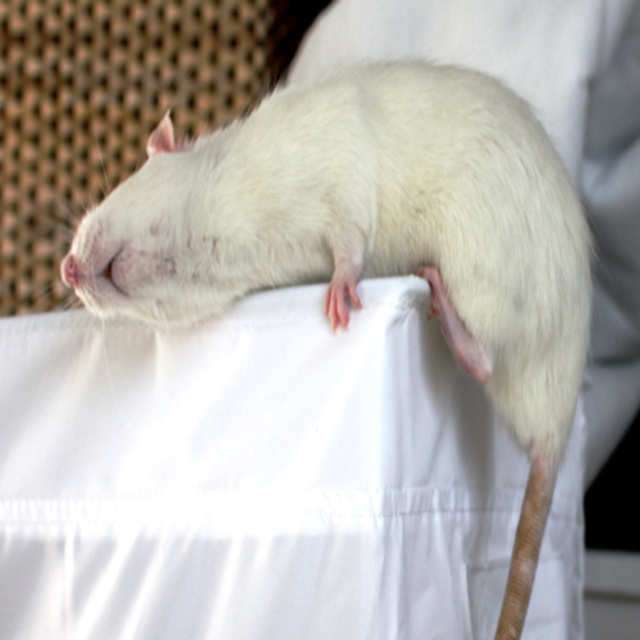Mouse: (14, 45, 612, 640)
